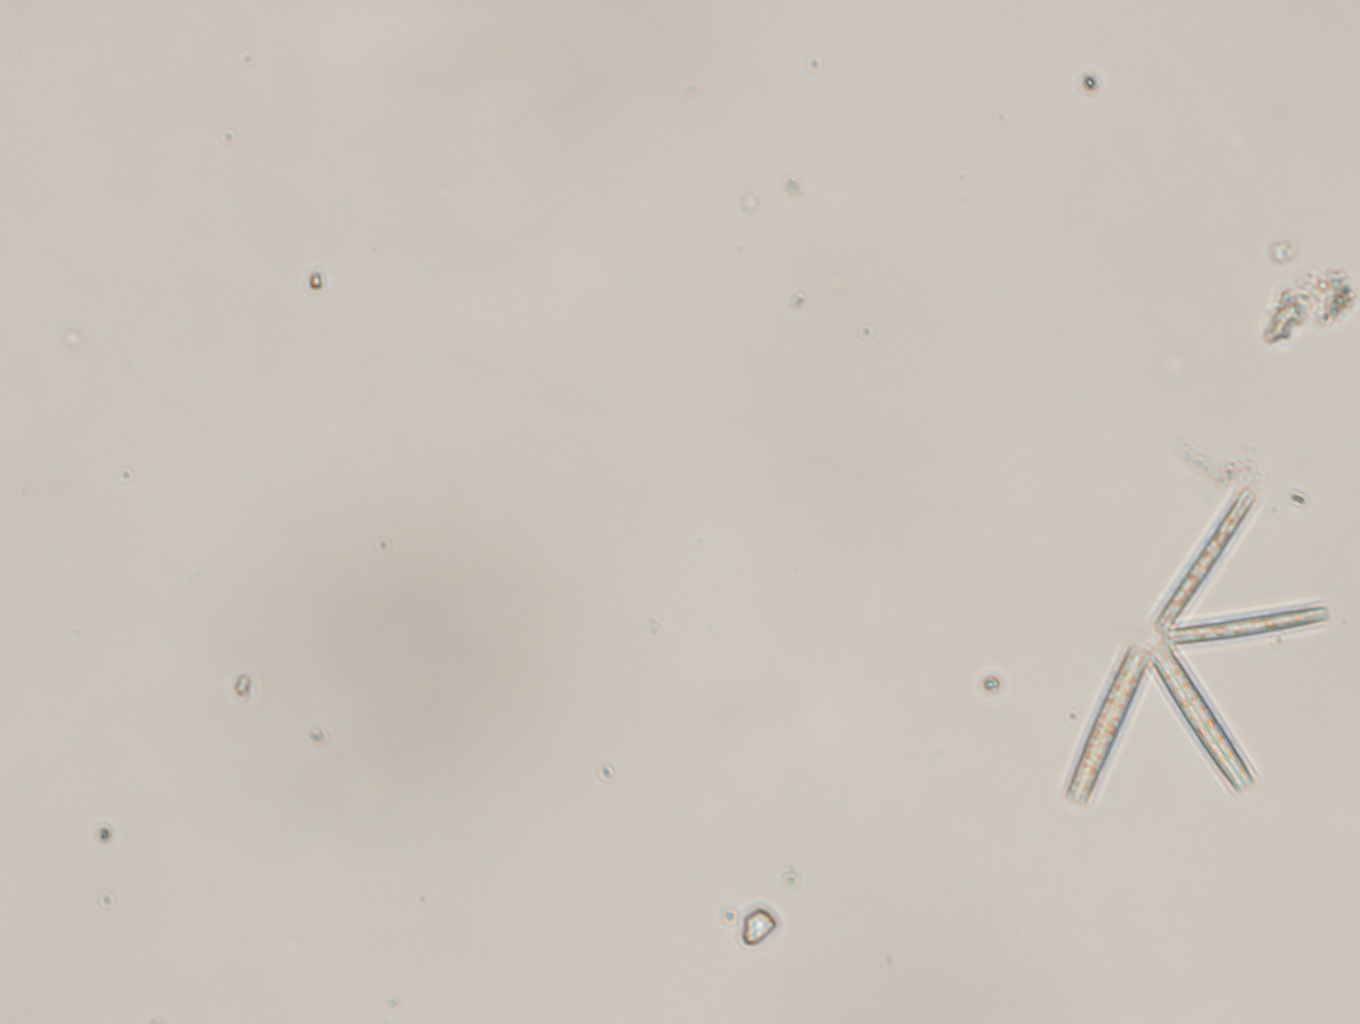thalassionema nitzschioides: (1053, 477, 1332, 807)
